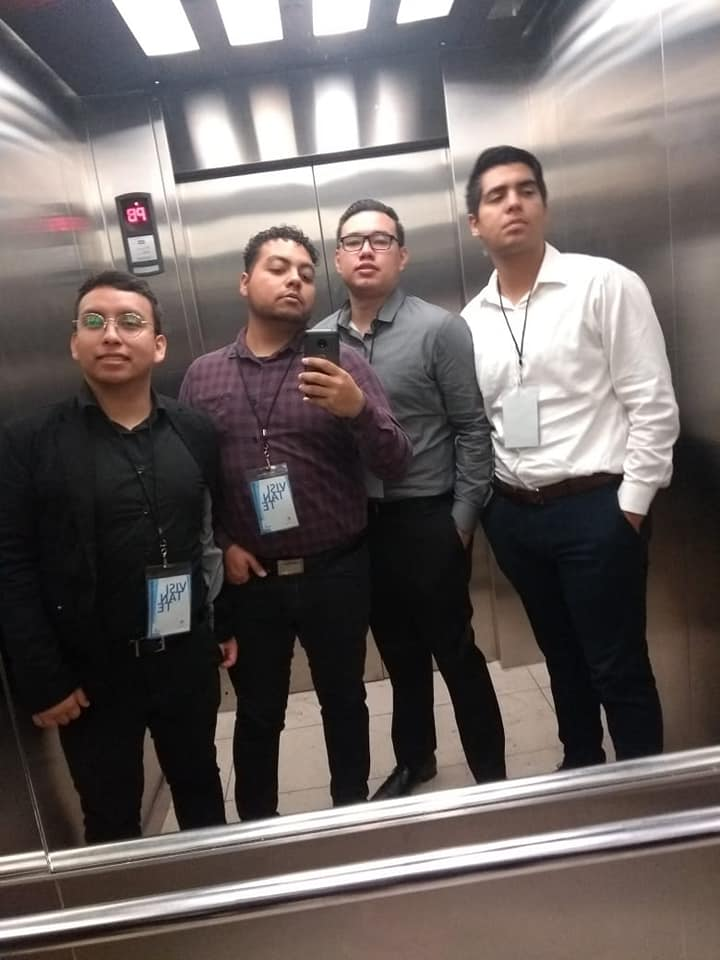Yoshi: (184, 209, 349, 470)
